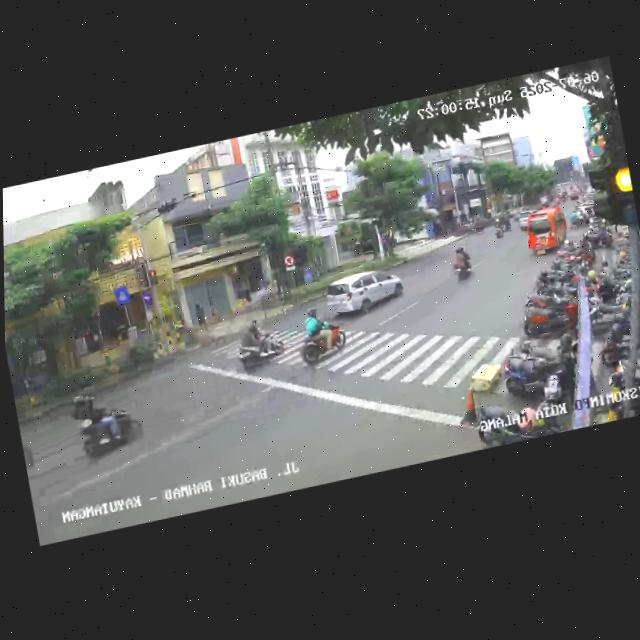car: (322, 264, 406, 325), (522, 205, 572, 260)
motorcycle: (71, 389, 146, 466), (289, 301, 352, 377), (232, 314, 288, 375), (448, 243, 477, 285), (494, 217, 507, 239)
